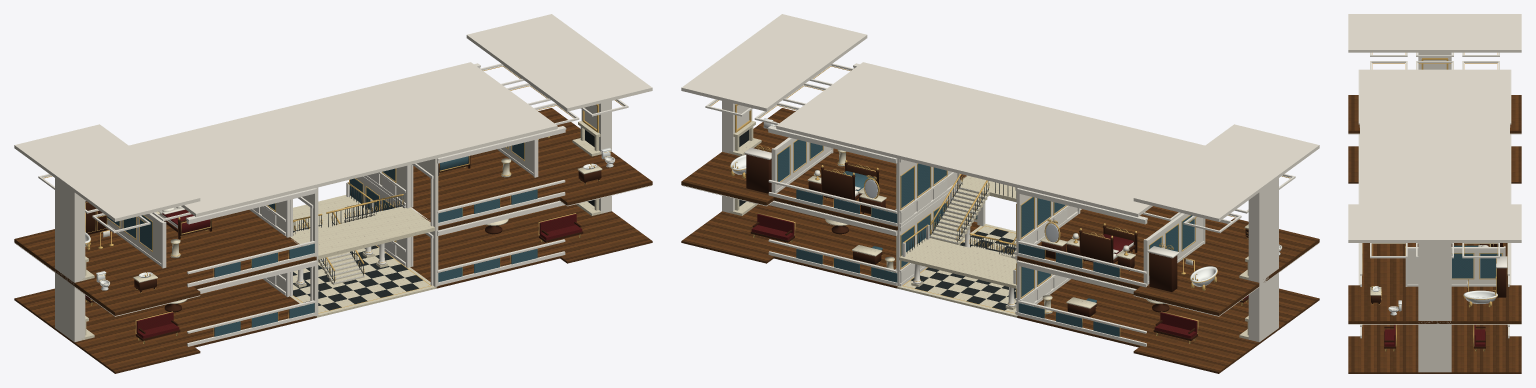
The model's file is palaceInterior.glb.
3 views of the same model, side by side, from view 1: azimuth 30°, elevation 25°; view 2: azimuth 150°, elevation 25°; view 3: azimuth 270°, elevation 25° (orthographic). The views are drawn at different scales.
Parts seen in each view (by area): view 1: palaceInterior Chateau Stuc creme.004, palaceInterior Chateau Parquet Versailles.004, palaceInterior Chateau Moulures ivoire.007, palaceInterior Chateau Marbre creme veine.007, palaceInterior Chateau Soie bleu grise.007, palaceInterior Dosseret cheminees.004, palaceInterior Chateau Marbre noir.007, palaceInterior Chateau Bronze dore patine.008, palaceInterior Chateau Velours bordeaux.007, palaceInterior Chateau Chene des portes.008, palaceInterior Dosseret cheminees.005, palaceInterior Chateau Ferronnerie noire.007 (+3 smaller); view 2: palaceInterior Chateau Stuc creme.004, palaceInterior Chateau Parquet Versailles.004, palaceInterior Chateau Moulures ivoire.007, palaceInterior Chateau Marbre creme veine.007, palaceInterior Chateau Soie bleu grise.007, palaceInterior Chateau Chene des portes.008, palaceInterior Dosseret cheminees.004, palaceInterior Chateau Bronze dore patine.007, palaceInterior Chateau Bronze dore patine.008, palaceInterior Chateau Marbre noir.007, palaceInterior Chateau Velours bordeaux.007, palaceInterior Chateau Marbre creme veine.008 (+4 smaller); view 3: palaceInterior Chateau Stuc creme.004, palaceInterior Chateau Parquet Versailles.004, palaceInterior Dosseret cheminees.005, palaceInterior Chateau Moulures ivoire.007, palaceInterior Chateau Soie bleu grise.007, palaceInterior Chateau Bronze dore patine.007, palaceInterior Chateau Porcelaine emaillee.004, palaceInterior Chateau Chene des portes.008, palaceInterior Chateau Velours bordeaux.007, palaceInterior Dosseret cheminees.004, palaceInterior Chateau Bronze dore patine.008, palaceInterior Chateau Chene des portes.007.
Part boxes in pixels (<box>): palaceInterior Chateau Stuc creme.004: <box>14,14,652,316</box>; palaceInterior Chateau Parquet Versailles.004: <box>14,108,652,373</box>; palaceInterior Chateau Moulures ivoire.007: <box>38,63,628,346</box>; palaceInterior Chateau Marbre creme veine.007: <box>81,121,604,340</box>; palaceInterior Chateau Soie bleu grise.007: <box>107,142,537,336</box>; palaceInterior Dosseret cheminees.004: <box>55,178,85,342</box>; palaceInterior Chateau Marbre noir.007: <box>293,130,594,310</box>; palaceInterior Chateau Bronze dore patine.008: <box>85,136,610,343</box>; palaceInterior Chateau Velours bordeaux.007: <box>85,214,582,338</box>; palaceInterior Chateau Chene des portes.008: <box>85,156,601,312</box>; palaceInterior Dosseret cheminees.005: <box>581,101,611,213</box>; palaceInterior Chateau Ferronnerie noire.007: <box>293,184,403,282</box>; palaceInterior Chateau Stuc creme.004: <box>681,14,1319,316</box>; palaceInterior Chateau Parquet Versailles.004: <box>681,108,1319,373</box>; palaceInterior Chateau Moulures ivoire.007: <box>705,63,1295,346</box>; palaceInterior Chateau Marbre creme veine.007: <box>729,121,1252,339</box>; palaceInterior Chateau Soie bleu grise.007: <box>777,140,1194,336</box>; palaceInterior Chateau Chene des portes.008: <box>746,154,1248,316</box>; palaceInterior Dosseret cheminees.004: <box>1248,178,1278,342</box>; palaceInterior Chateau Bronze dore patine.007: <box>710,66,1290,313</box>; palaceInterior Chateau Bronze dore patine.008: <box>730,145,1248,343</box>; palaceInterior Chateau Marbre noir.007: <box>739,130,1016,310</box>; palaceInterior Chateau Velours bordeaux.007: <box>751,214,1248,338</box>; palaceInterior Chateau Marbre creme veine.008: <box>807,149,1248,314</box>; palaceInterior Chateau Stuc creme.004: <box>1348,14,1521,324</box>; palaceInterior Chateau Parquet Versailles.004: <box>1348,95,1521,373</box>; palaceInterior Dosseret cheminees.005: <box>1418,243,1451,372</box>; palaceInterior Chateau Moulures ivoire.007: <box>1358,52,1511,338</box>; palaceInterior Chateau Soie bleu grise.007: <box>1452,253,1501,278</box>; palaceInterior Chateau Bronze dore patine.007: <box>1372,53,1502,299</box>; palaceInterior Chateau Porcelaine emaillee.004: <box>1372,286,1497,315</box>; palaceInterior Chateau Chene des portes.008: <box>1371,243,1506,304</box>; palaceInterior Chateau Velours bordeaux.007: <box>1384,324,1485,346</box>; palaceInterior Dosseret cheminees.004: <box>1418,52,1451,69</box>; palaceInterior Chateau Bronze dore patine.008: <box>1362,243,1507,351</box>; palaceInterior Chateau Chene des portes.007: <box>1384,326,1485,348</box>.
Bounding box in the file's own units: 41.6 × 11.48 × 13.5.
15 materials, 6 textured.
